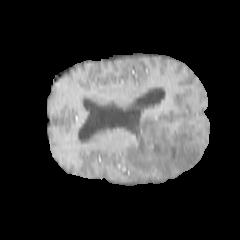glioma: (124, 105, 201, 177)
